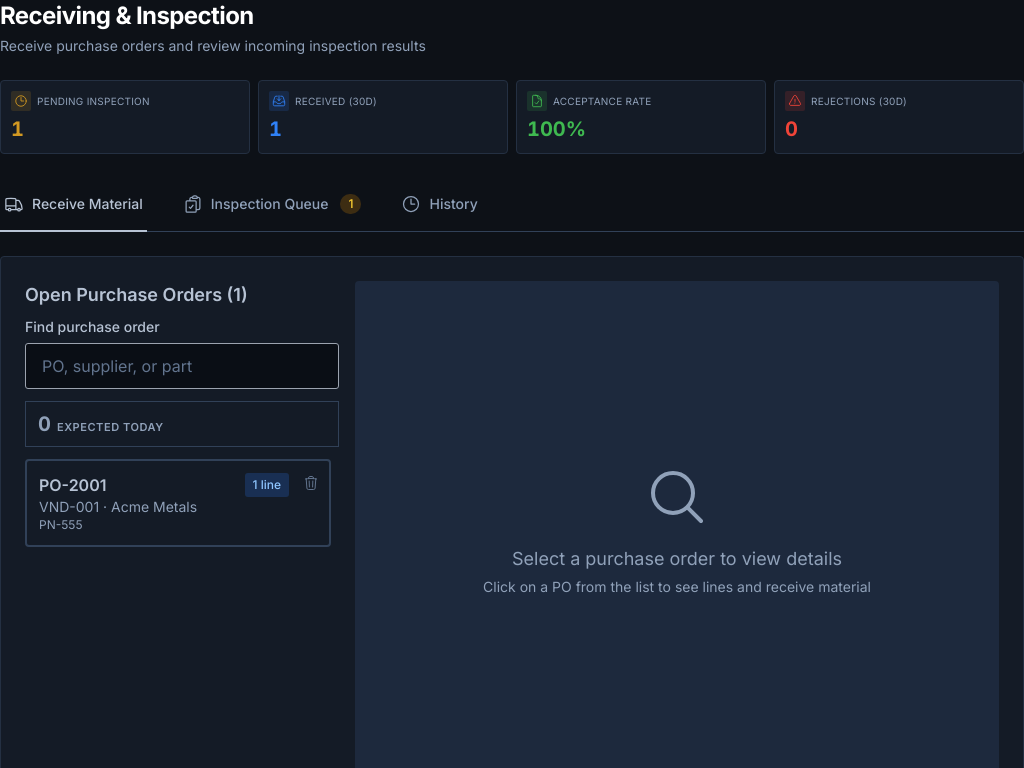
it: Receiving — receive form default › starts "Requires Inspection" UNCHECKED with no hint for an unflagged part
Click the button "PO-2001 VND-001 · Acme Metals PN-555 1 line" at (178, 503), box x1=25 y1=459 x2=331 y2=547
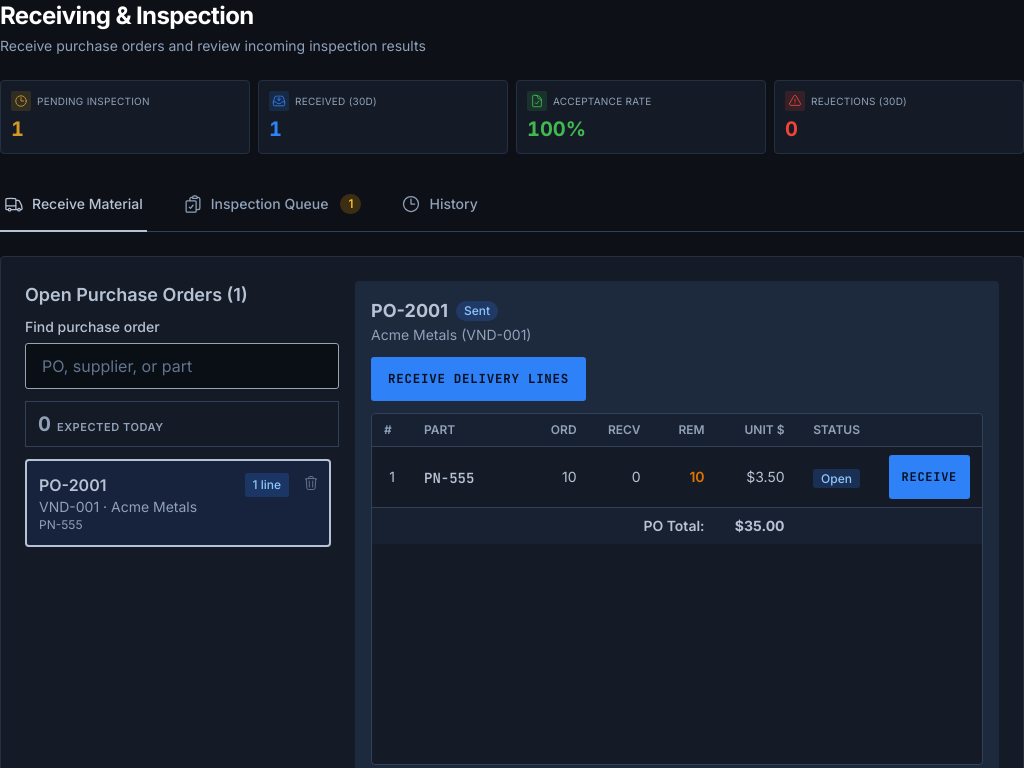
Click the button "Receive" at (929, 477), box x1=888 y1=455 x2=970 y2=499
(page scrolled)
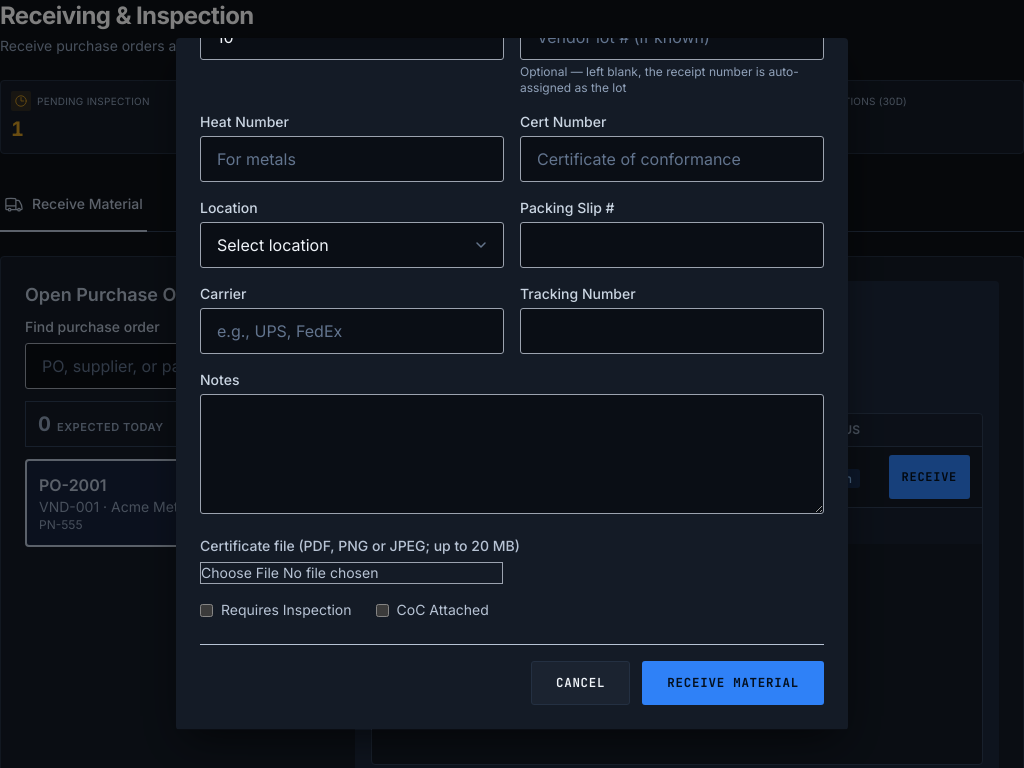
Result: the checkbox labelled "Requires Inspection" is not checked at x1=200 y1=604 x2=213 y2=617
